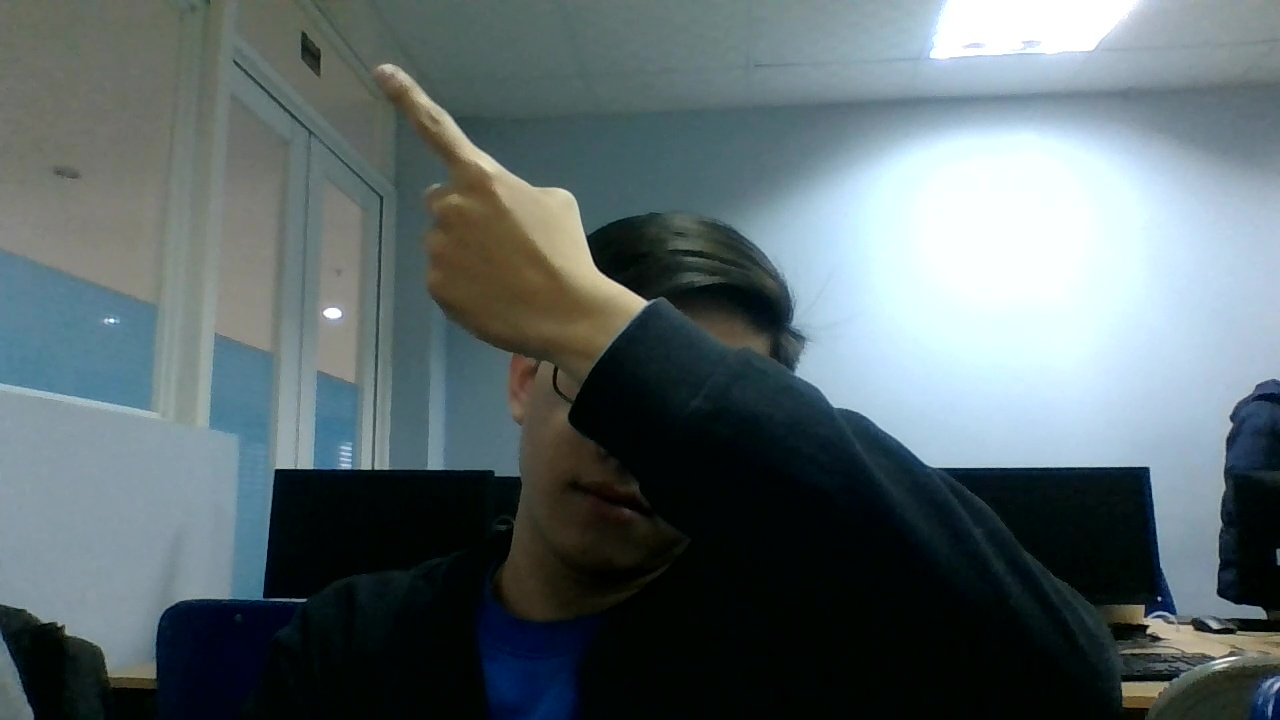right: (375, 59, 589, 365)
